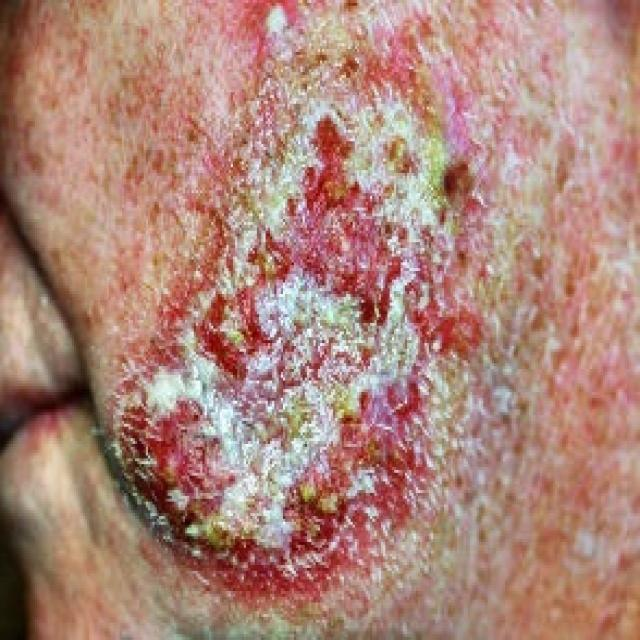Tinea Ringworm Candidiasis and other Fungal Infections: (99, 50, 503, 596)
